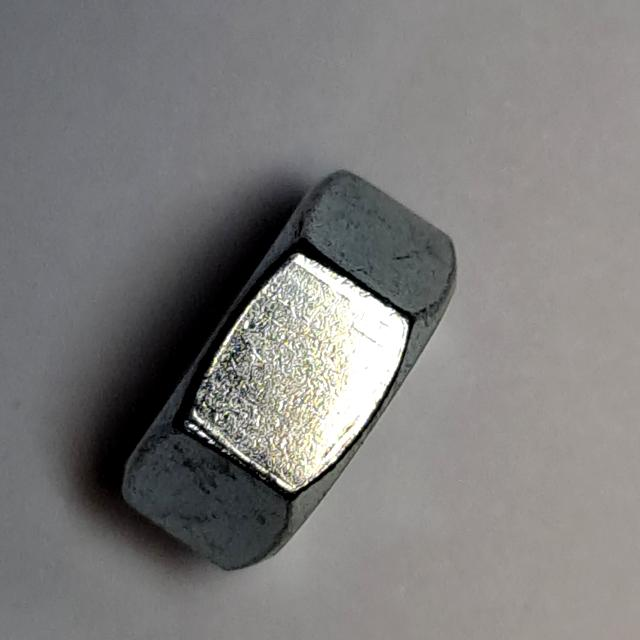Side_Excellent: (107, 149, 486, 593)
